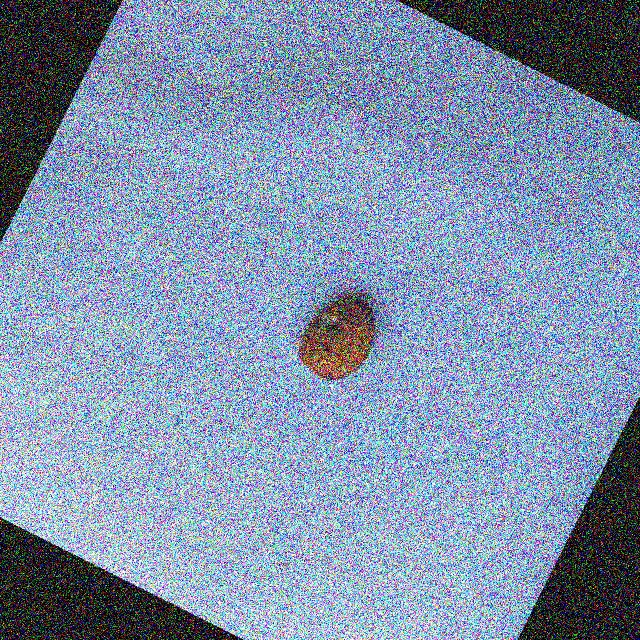grade3: (283, 275, 394, 397)
